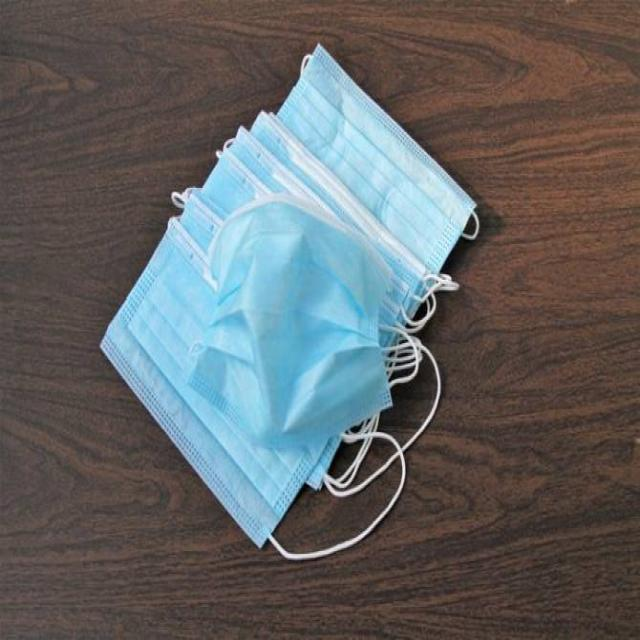non-organic waste: (94, 63, 483, 547), (202, 211, 410, 440)
